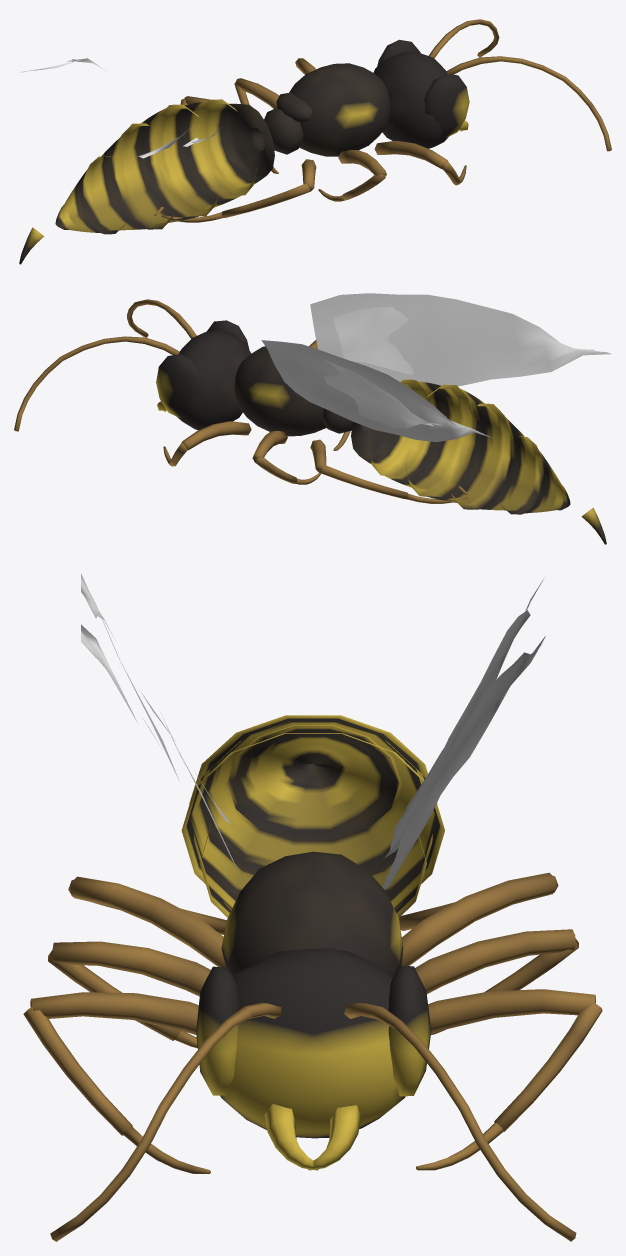
Rendered from queen_wasp.gltf.
The picture shows the model from 3 angles, top to bottom: view 1: azimuth 30°, elevation 25°; view 2: azimuth 150°, elevation 25°; view 3: azimuth 270°, elevation 25°; orthographic projection. The views are drawn at different scales.
Parts seen in each view (by area): view 1: wasp_body, wasp_legs, wasp_wings; view 2: wasp_body, wasp_wings, wasp_legs; view 3: wasp_body, wasp_legs, wasp_wings.
Boxes of the visible parts, box(x1,y1,x2,y2) form: wasp_body: box(19, 39, 469, 264); wasp_legs: box(154, 19, 611, 222); wasp_wings: box(19, 58, 220, 158); wasp_body: box(156, 320, 606, 544); wasp_wings: box(261, 293, 611, 442); wasp_legs: box(14, 299, 468, 503); wasp_body: box(181, 715, 444, 1170); wasp_legs: box(23, 872, 602, 1241); wasp_wings: box(81, 573, 545, 889).
Bounding box in the file's own units: 4.48 × 1.34 × 2.12.
